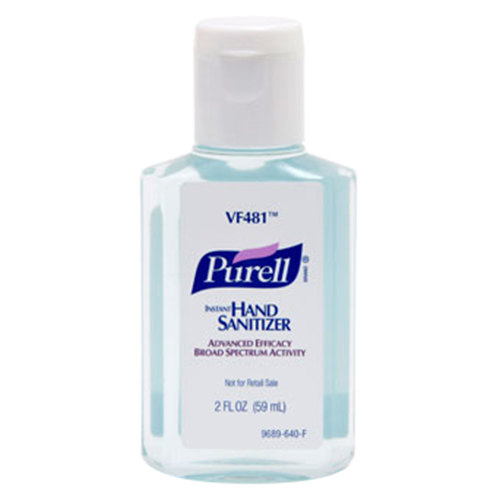Sanitizer: (136, 13, 360, 483)
